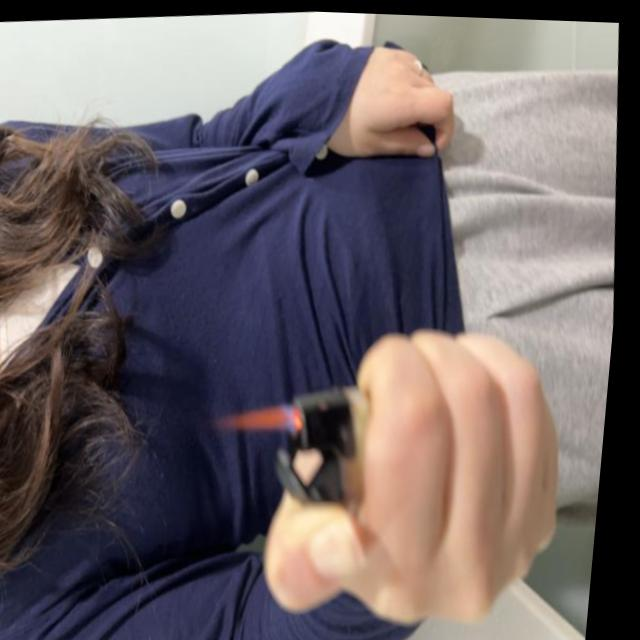Fire: (222, 394, 312, 435)
